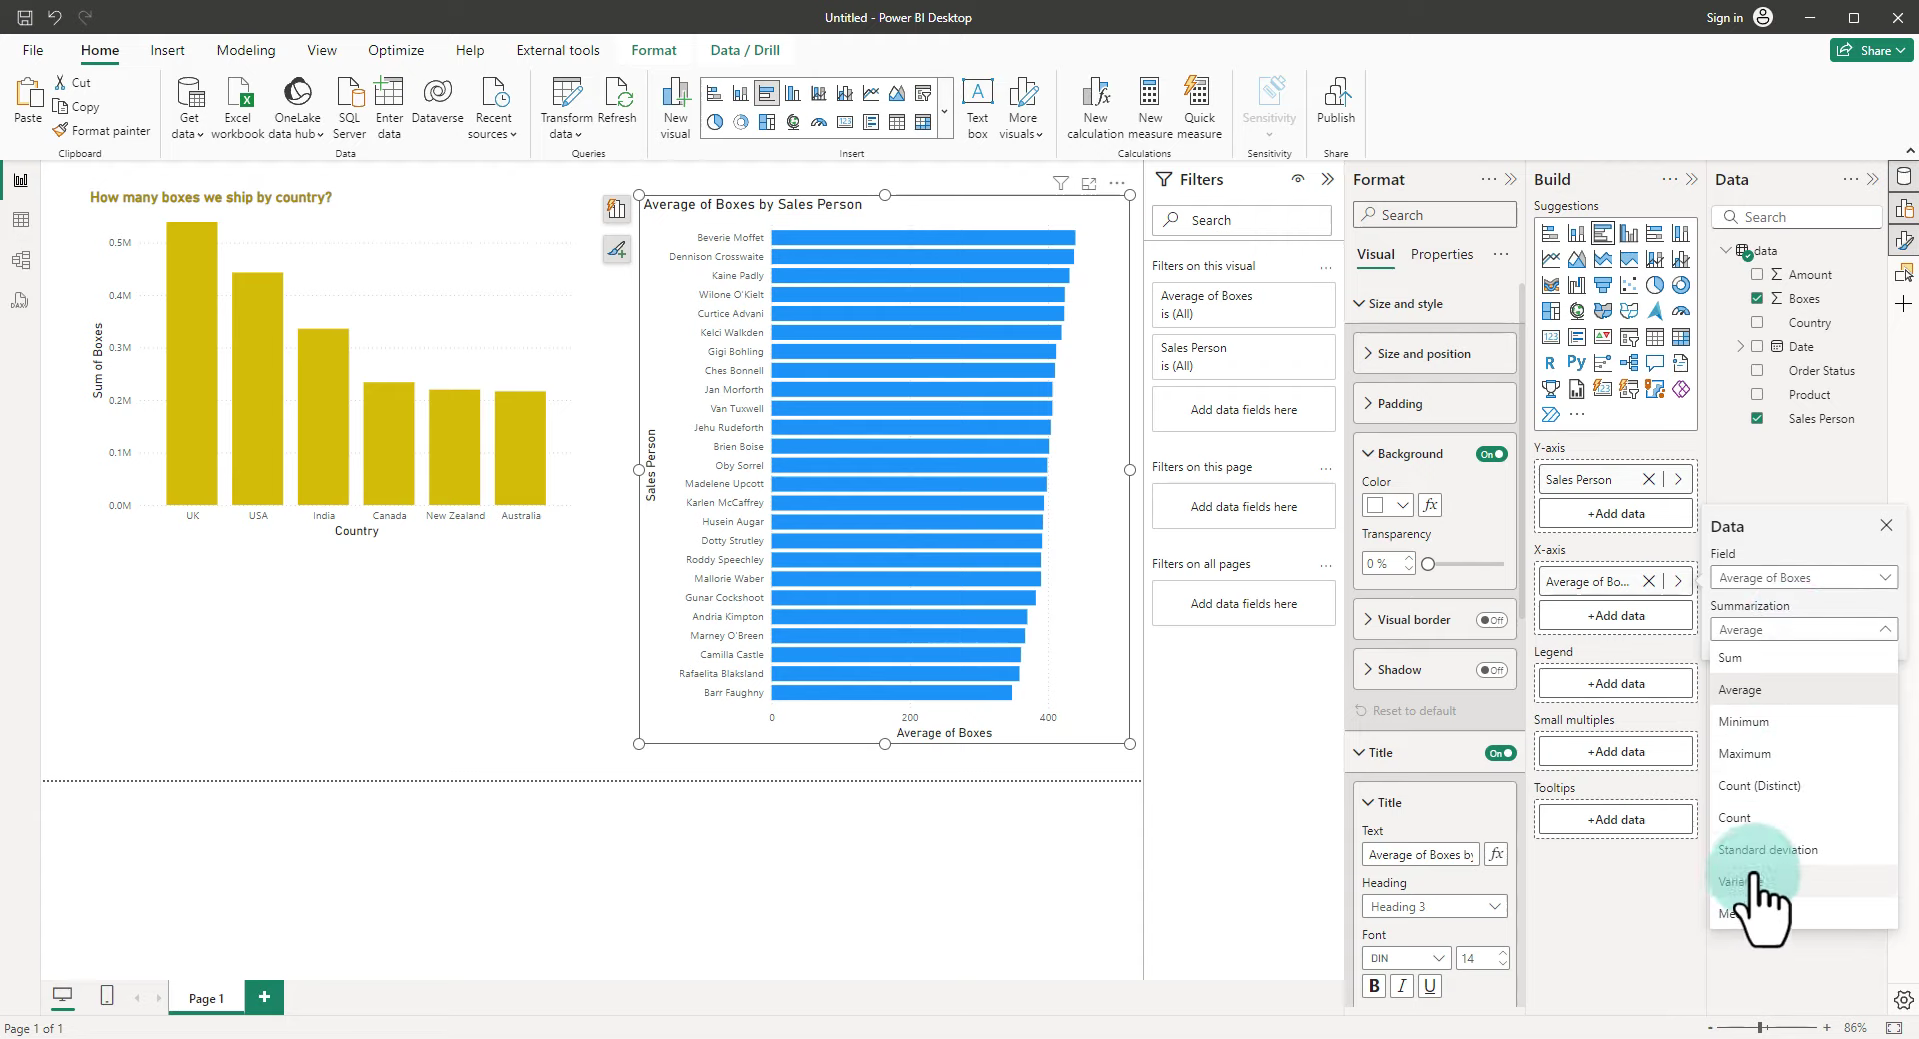

Layout of this report page (visuals, bound fields, positions):
{"tool":"powerbi","page":{"name":"Page 1","canvas":[1280,720],"ordinal":0},"visuals":[{"type":"columnChart","title":"How many boxes we ship by country?","fields":{"Category":["data.Country"],"Y":["Sum(data.Boxes)"]},"box":[17.5,3.8,711.2,330],"z":0},{"type":"clusteredBarChart","fields":{"Category":["data.Sales Person"],"Y":["Avg(data.Boxes)"]},"box":[768.8,0,511.2,702.5],"z":1000},{"type":"cardVisual","fields":{"Data":["Sum(data.Amount)","Sum(data.Boxes)"]},"box":[17.5,360,347.5,161.2],"z":2000},{"type":"slicer","fields":{"Values":["data.Product"]},"box":[403.8,341.2,325,361.2],"z":3000},{"type":"slicer","fields":{"Values":["data.Date"]},"box":[41.2,543.8,323.8,122.5],"z":4000}]}

Visuals, with their boxes on the page's 1280x720 design canvas (x1, y1, x2, y2). These are canvas units, not pixel positions in the 1919x1039 screenshot, which may show the page scaled, cropped or inside an application window:
"How many boxes we ship by country?" columnChart: 18, 4, 729, 334
clusteredBarChart - data.Sales Person x Avg(data.Boxes): 769, 0, 1280, 702
cardVisual - Sum(data.Amount) x Sum(data.Boxes): 18, 360, 365, 521
slicer - data.Product: 404, 341, 729, 702
slicer - data.Date: 41, 544, 365, 666
